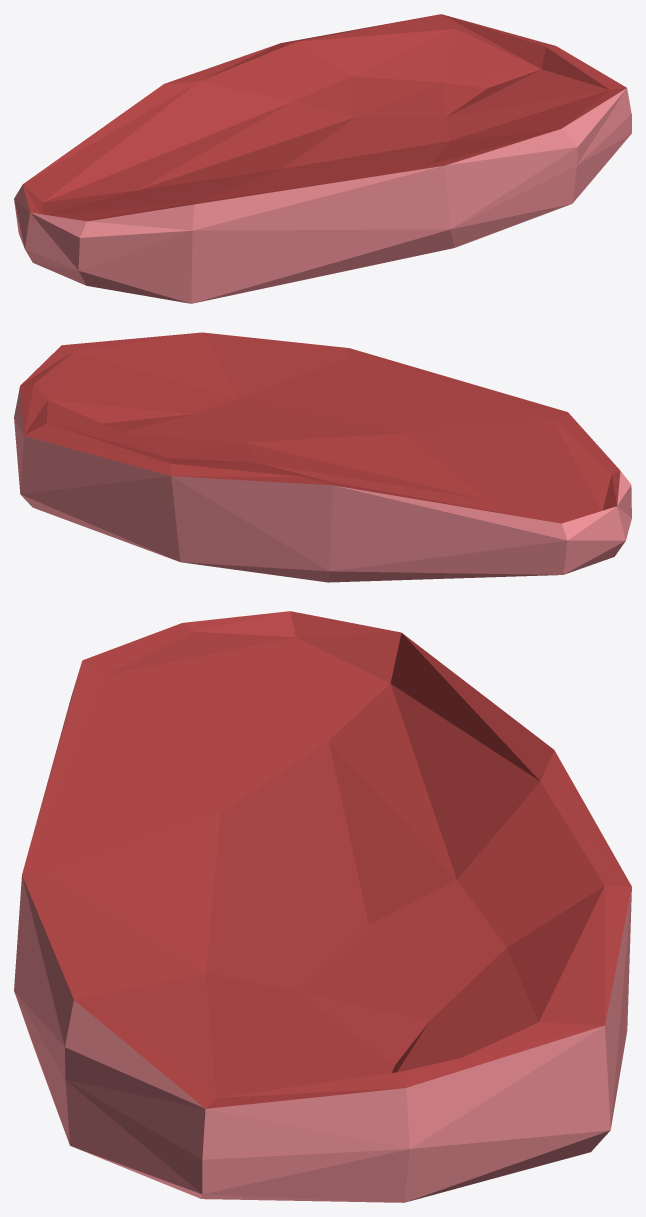
File: SFI_Meat_Cooked_003.fbx
3 renders of one model, top to bottom at view 1: azimuth 30°, elevation 25°; view 2: azimuth 150°, elevation 25°; view 3: azimuth 270°, elevation 25°, orthographic. The views are drawn at different scales.
Visible parts, largest first — view 1: SFI_Meat_Cooked_003; view 2: SFI_Meat_Cooked_003; view 3: SFI_Meat_Cooked_003.
Boxes of the visible parts, bbox=[...] form: SFI_Meat_Cooked_003: bbox=[14, 14, 631, 303]; SFI_Meat_Cooked_003: bbox=[14, 332, 631, 582]; SFI_Meat_Cooked_003: bbox=[14, 611, 631, 1202].
Bounding box in the file's own units: 65 × 10.59 × 33.23.
